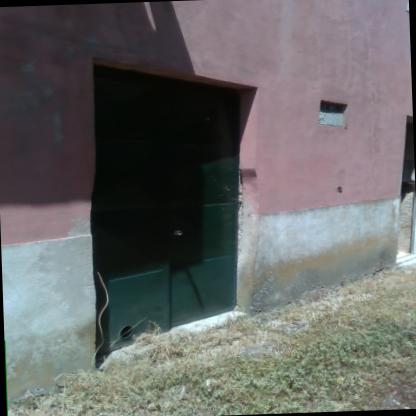closed: (73, 41, 278, 360)
